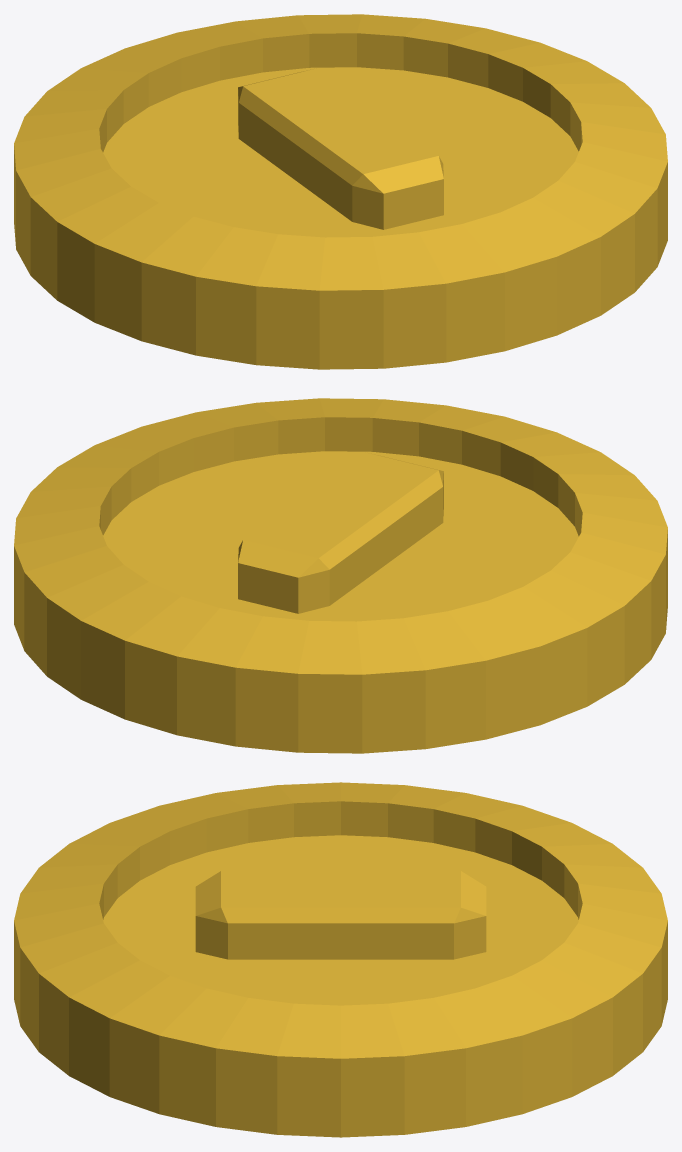
Rendered from goldcoin.fbx.
3 renders of one model, top to bottom at view 1: azimuth 30°, elevation 25°; view 2: azimuth 150°, elevation 25°; view 3: azimuth 270°, elevation 25°, orthographic.
Parts seen in each view (by area): view 1: coin; view 2: coin; view 3: coin.
Boxes of the visible parts, x1,y1,x2,y2 form: coin: (14,14,667,369); coin: (14,398,667,753); coin: (14,782,667,1137).
Size of the model in its own units: 81.96 by 19.57 by 81.96.
